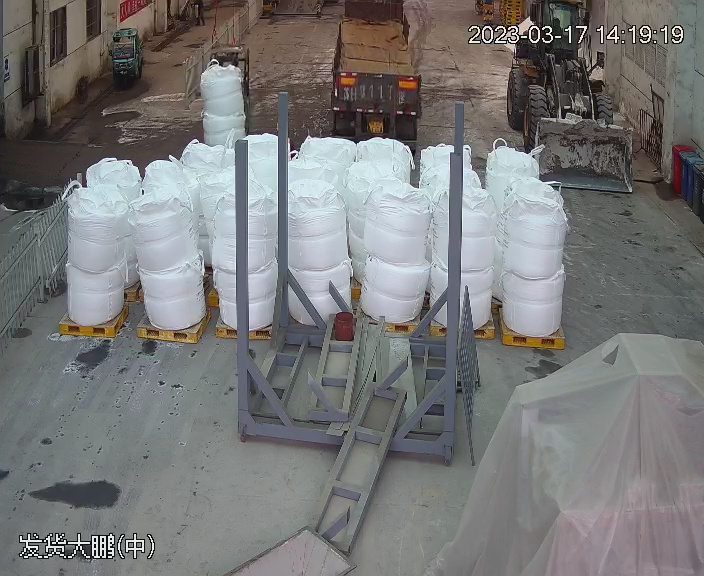truck: (325, 1, 425, 133)
